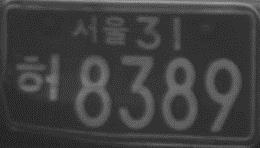1: (168, 13, 186, 54)
3: (116, 53, 157, 131), (134, 14, 161, 51)
8: (159, 56, 199, 130), (74, 55, 113, 130)
9: (202, 57, 244, 134)
서울_O: (70, 14, 130, 47)
허: (15, 52, 64, 103)
